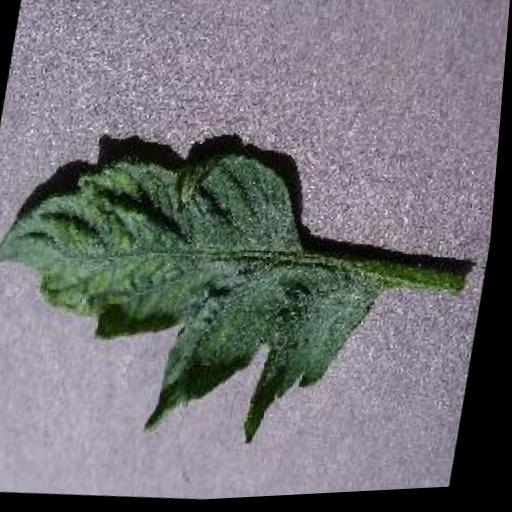Mosaic Virus: (0, 119, 419, 468)
